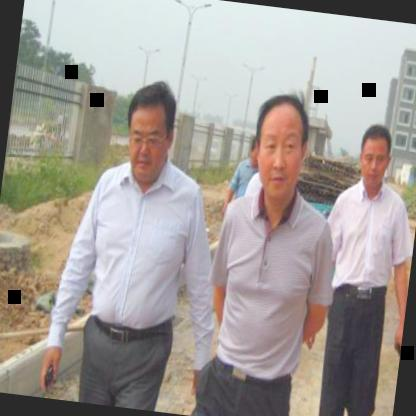head: (243, 83, 318, 205), (116, 73, 184, 185), (352, 118, 396, 192)
